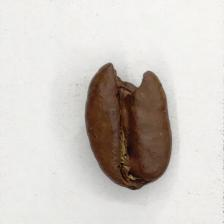NG: (95, 62, 159, 92)
